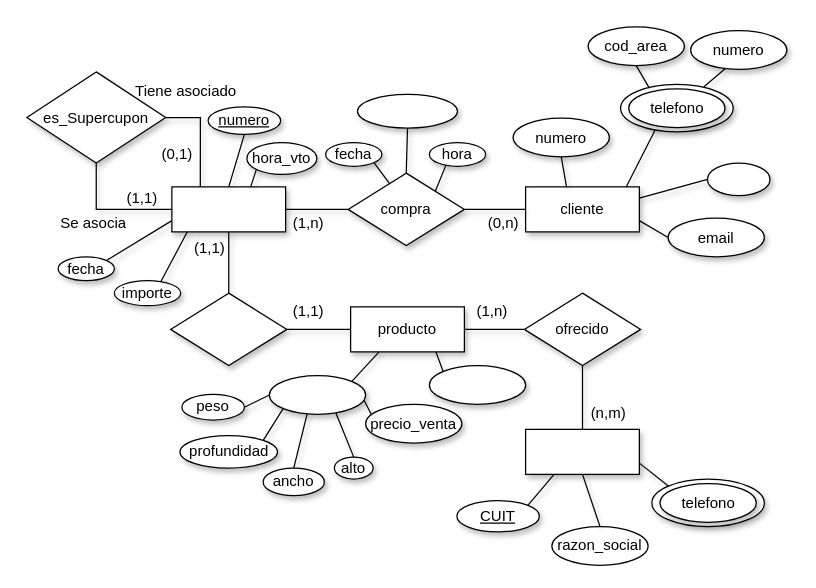
Some shapes in this 816 by 588 pixel diagram are drawn without their labels. The shapes that lost their labels are listed below. From the top down, each one's centre as x and y in pixels, then its label:
the point at 408,112: forma_pago
the point at 739,180: dni
the point at 229,211: cupon
the point at 229,330: asociado
the point at 318,396: dimensiones
the point at 478,386: cod_prod
the point at 583,453: proveedor
